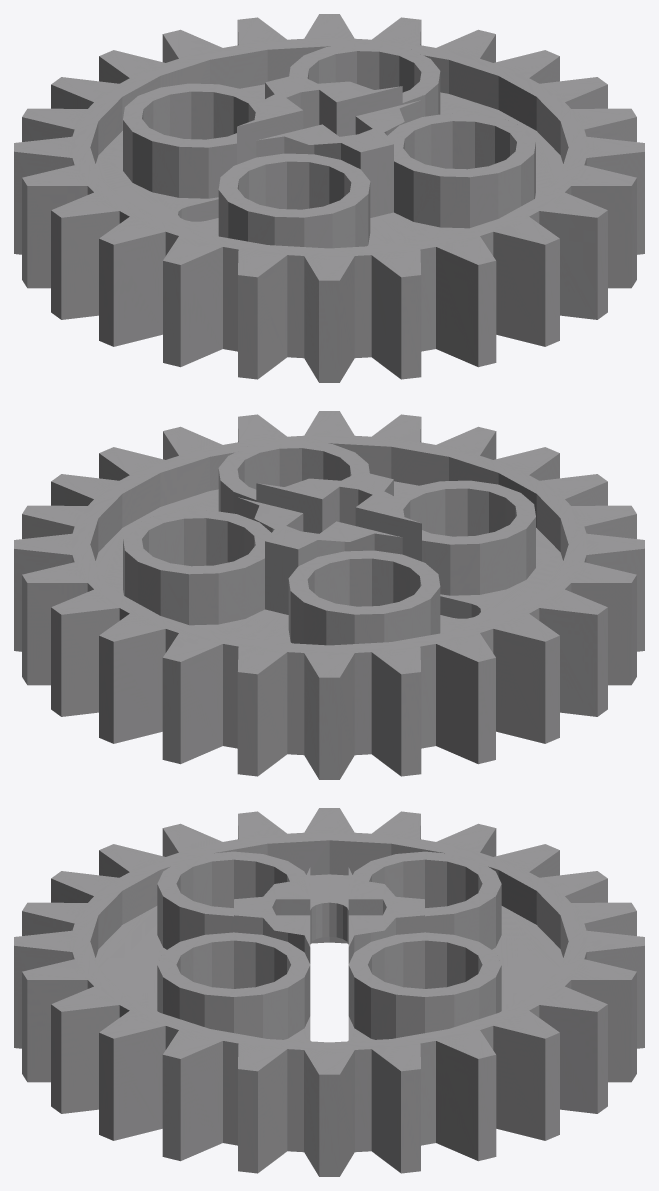
File: gear_wheel_Z24.dae
3 renders of one model, top to bottom at view 1: azimuth 30°, elevation 25°; view 2: azimuth 150°, elevation 25°; view 3: azimuth 270°, elevation 25°, orthographic.
Visible parts, largest first — view 1: node; view 2: node; view 3: node.
Part boxes in pixels (x1,y1,x2,y2): node: (14, 14, 644, 382); node: (14, 411, 644, 779); node: (14, 808, 644, 1176).
Bounding box in the file's own units: 65.46 × 19.5 × 65.46.
Materials: 1 (1 with a texture image).
